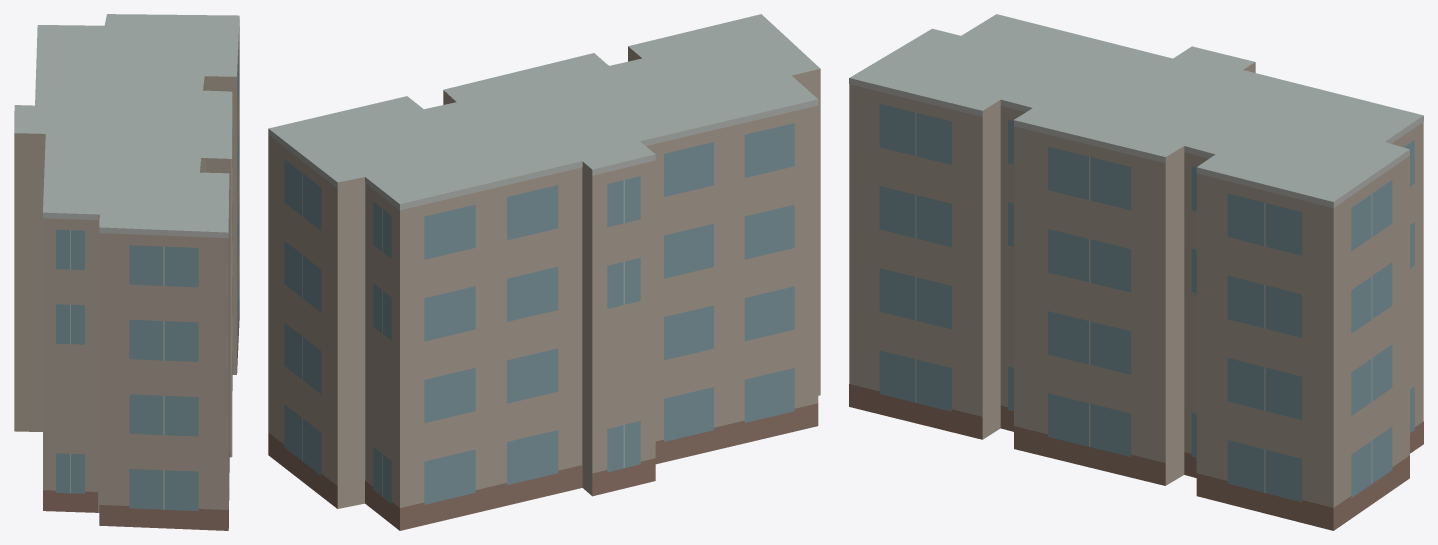
Rendered from survey-upis-32910432.glb.
3 views of the same model, side by side, from view 1: azimuth 30°, elevation 25°; view 2: azimuth 150°, elevation 25°; view 3: azimuth 270°, elevation 25° (orthographic). The views are drawn at different scales.
Visible parts, largest first — view 1: survey-upis-32910432.tmp; view 2: survey-upis-32910432.tmp; view 3: survey-upis-32910432.tmp.
Part boxes in pixels (x1,y1,x2,y2): survey-upis-32910432.tmp: (14, 14, 239, 530); survey-upis-32910432.tmp: (268, 14, 820, 530); survey-upis-32910432.tmp: (849, 14, 1423, 530).
Size of the model in its own units: 15.95 by 13 by 20.6.
